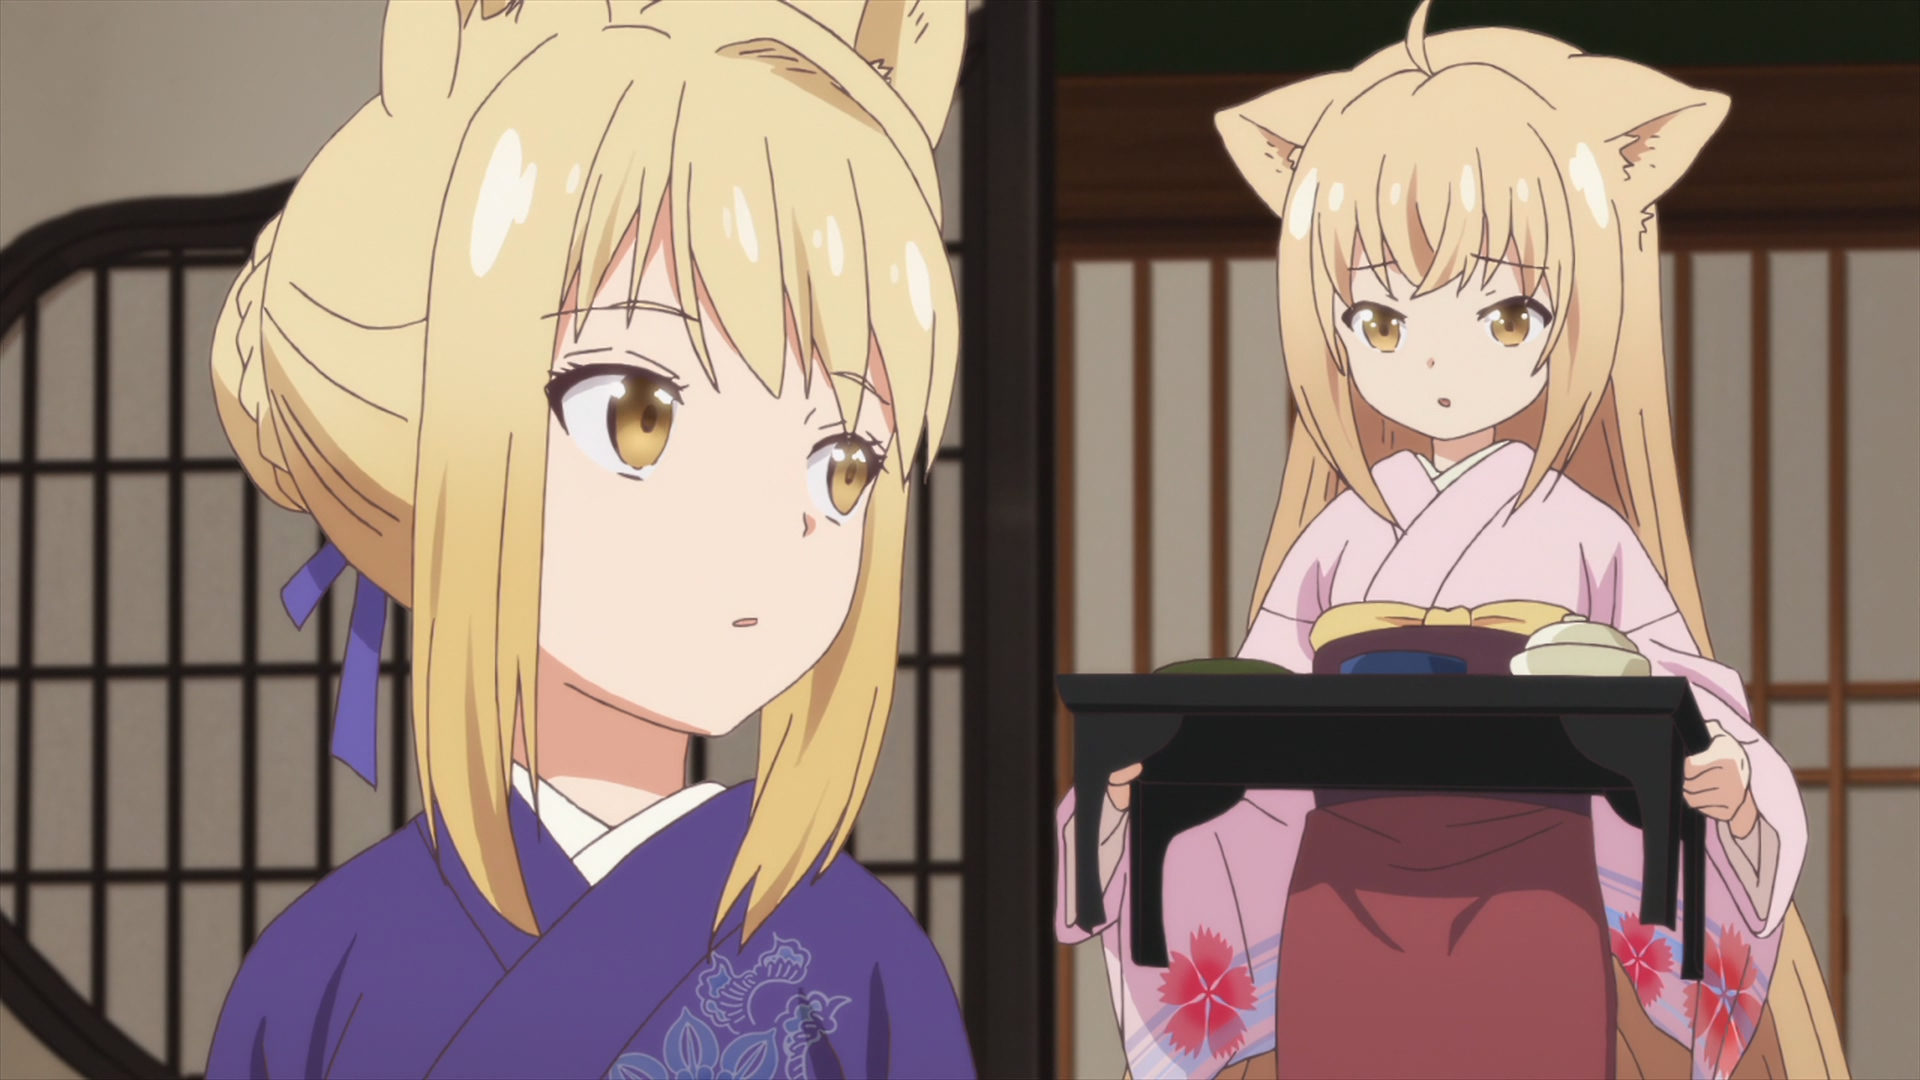柚: (1054, 1, 1847, 1080)
桐: (207, 1, 975, 1080)
